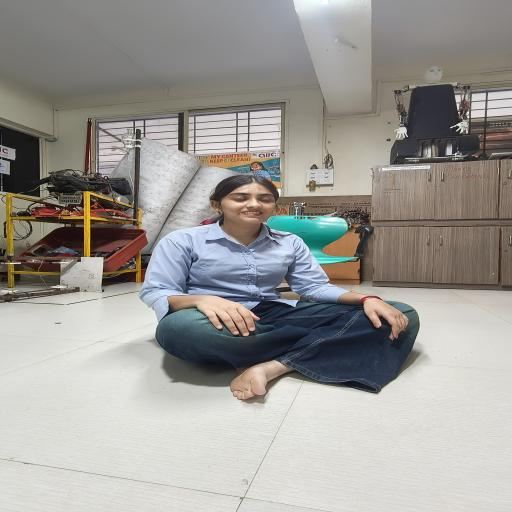survivor: (139, 174, 421, 402)
